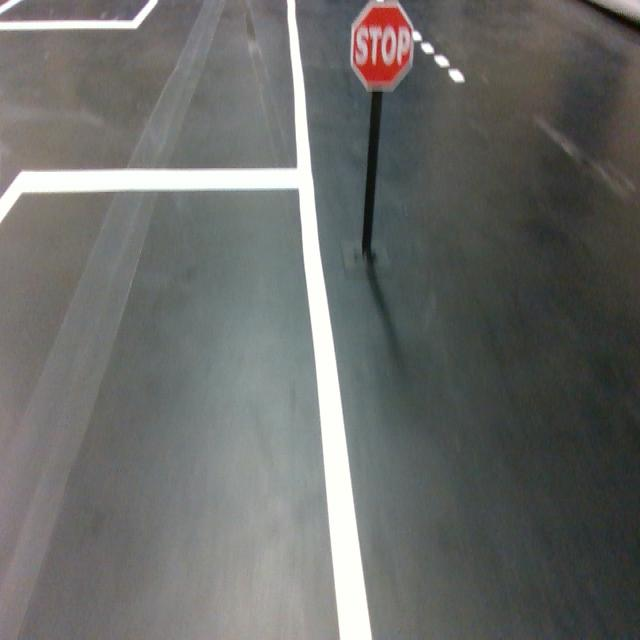stop-sign: (350, 0, 414, 93)
